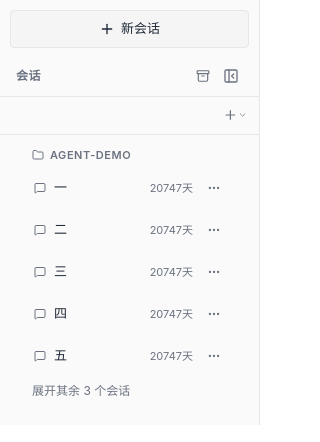
Test: Sidebar 会话管理 › 归档项缺分档字段时归入「更早」，不丢项
Click the button named "归档": (203, 76) x1=191 y1=64 x2=215 y2=88
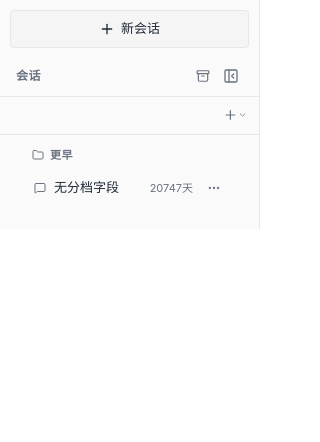
Now the text "更早" is shown, box x1=50 y1=146 x2=73 y2=163
Now the text "无分档字段" is shown, box x1=54 y1=179 x2=119 y2=195
